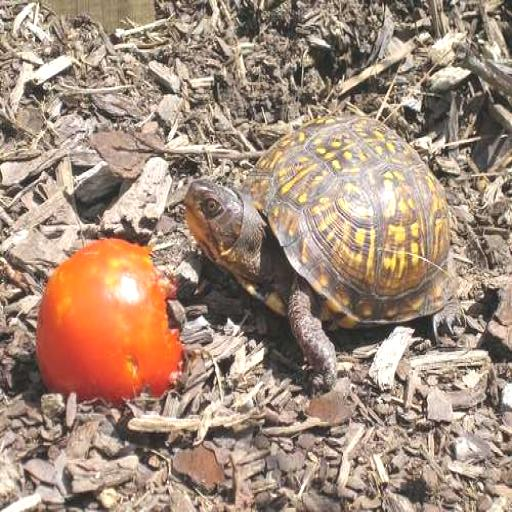turtle: (174, 104, 483, 382)
